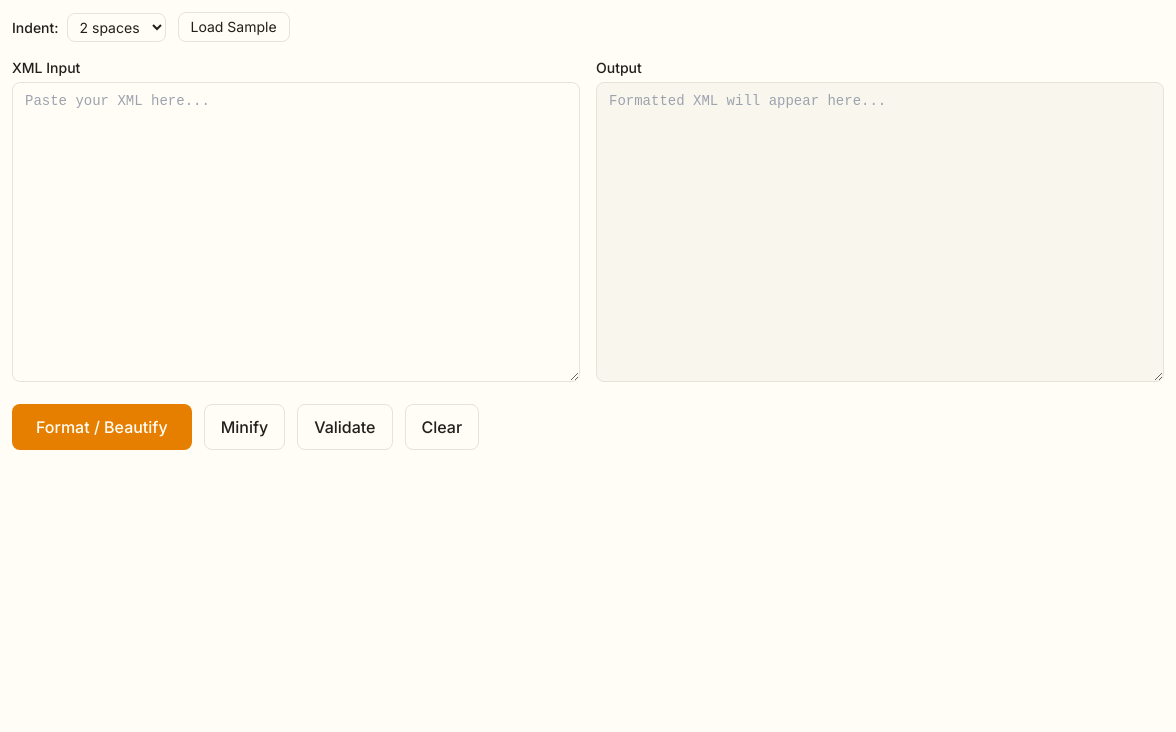
Test: XmlFormatter › detects invalid XML with mismatched tags
Type "<root><child>text</wrong></root>" into the text box with placeholder "Paste your XML here...". click: [296, 232]
box: [12, 82, 580, 382]
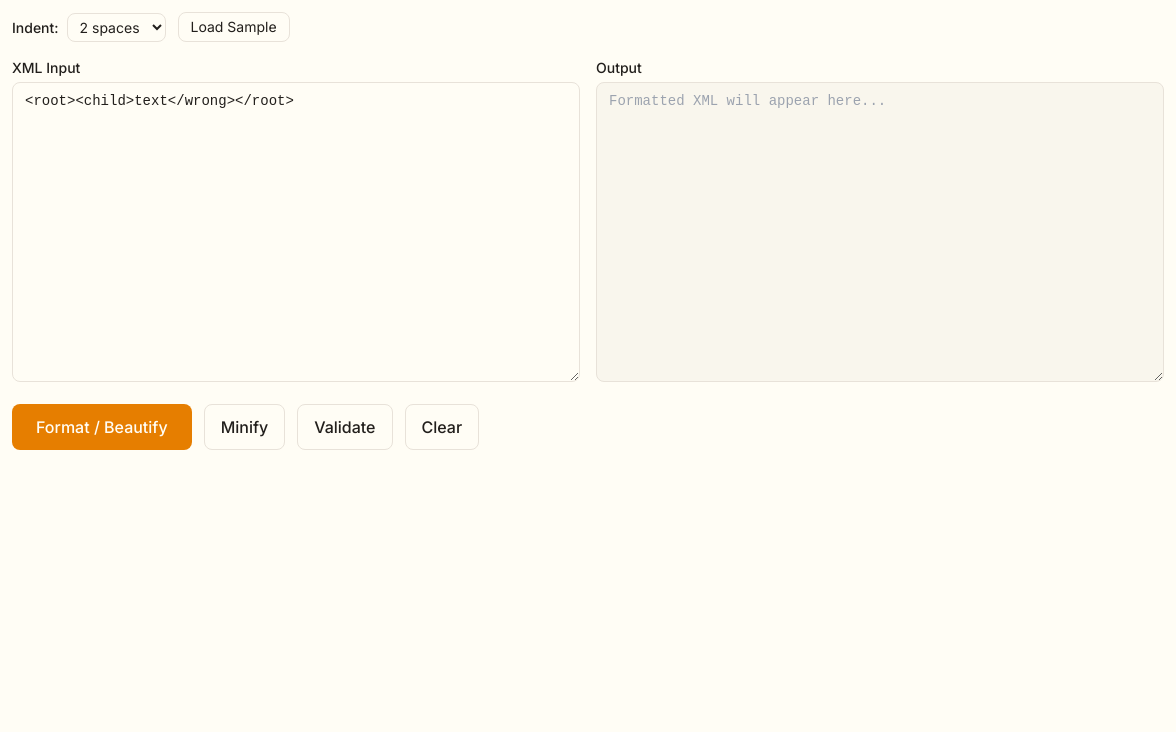
Click the button "Validate". click: [345, 427]
box: [297, 404, 392, 450]
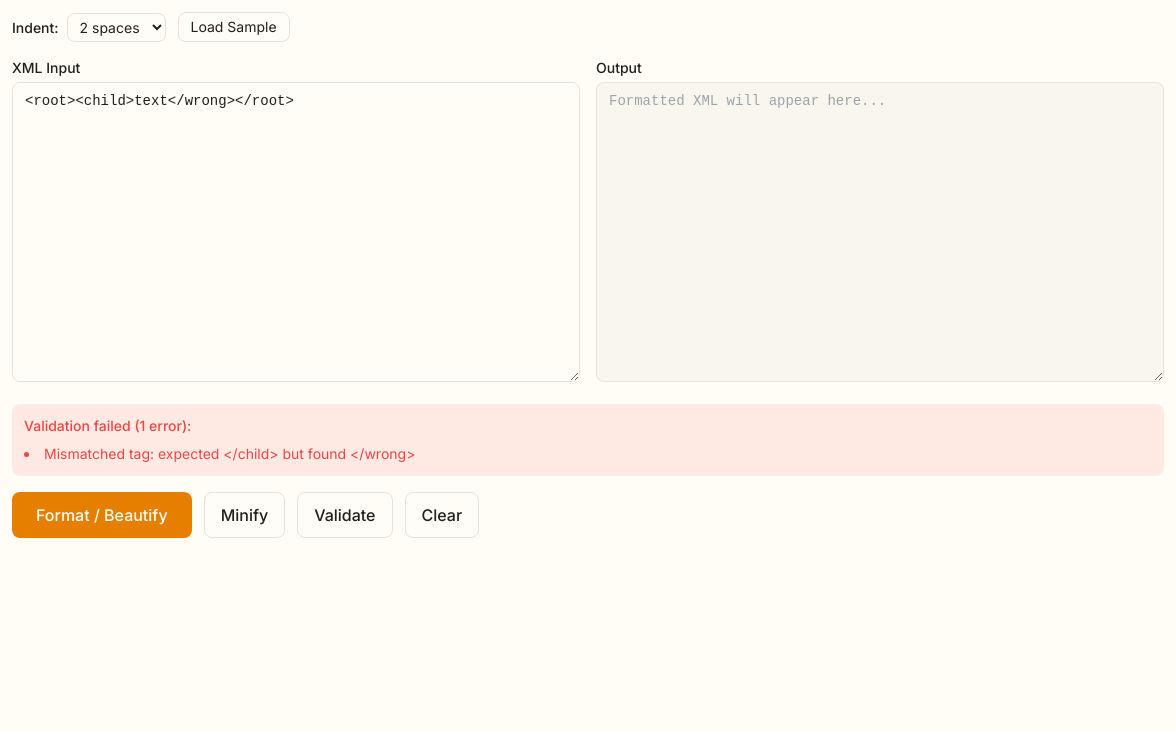
Result: the text "Validation failed (1 error):" is shown at [24, 417, 191, 434]
Result: the list item "Mismatched tag: expected </child> but found </wrong>" is shown at [44, 445, 415, 462]
